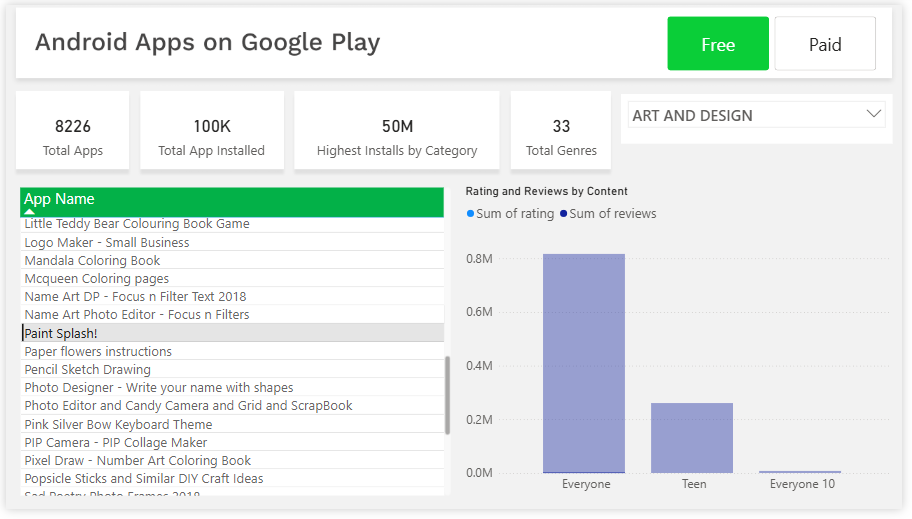

The page's visual inventory and layout, read from the dashboard file:
{"tool":"powerbi","page":{"name":"Home","canvas":[1280,720],"ordinal":0},"visuals":[{"type":"slicer","fields":{"Values":["public playstore_apps.category"]},"box":[878.1,127.4,387.9,71.4],"z":0},{"type":"tableEx","fields":{"Values":["public playstore_apps.app_name"]},"box":[14.3,255.7,625.7,450],"z":1000},{"type":"card","fields":{"Values":["public playstore_apps.Total Installs"]},"box":[425.7,141.4,266.1,86.8],"z":2000},{"type":"card","fields":{"Values":["public playstore_apps.Total App Installed"]},"box":[200.3,141.4,187.7,86.8],"z":3000},{"type":"card","fields":{"Values":["public playstore_apps.Total Apps"]},"box":[18.2,141.4,154,86.8],"z":4000},{"type":"advancedSlicerVisual","fields":{"Values":["public playstore_apps.app_type"]},"box":[940,11.4,308.6,87.1],"z":5000},{"type":"card","fields":{"Values":["public playstore_apps.Total Genres"]},"box":[728.2,141.4,130.2,86.8],"z":6000},{"type":"columnChart","title":"Rating and Reviews by Content","fields":{"Category":["public playstore_apps.content_rating"],"Y":["Sum(public playstore_apps.rating)","Sum(public playstore_apps.reviews)"]},"box":[651.2,256.3,614.8,449.5],"z":6001}]}

Visuals, with their boxes in screenshot pixels (x1, y1, x2, y2), scaled from the page's 1280x720 canvas onto the 912x519 screenshot:
slicer - public playstore_apps.category: (626, 92, 902, 143)
tableEx - public playstore_apps.app_name: (10, 184, 456, 509)
card - public playstore_apps.Total Installs: (303, 102, 493, 164)
card - public playstore_apps.Total App Installed: (143, 102, 276, 164)
card - public playstore_apps.Total Apps: (13, 102, 123, 164)
advancedSlicerVisual - public playstore_apps.app_type: (670, 8, 890, 71)
card - public playstore_apps.Total Genres: (519, 102, 612, 164)
"Rating and Reviews by Content" columnChart: (464, 185, 902, 509)
